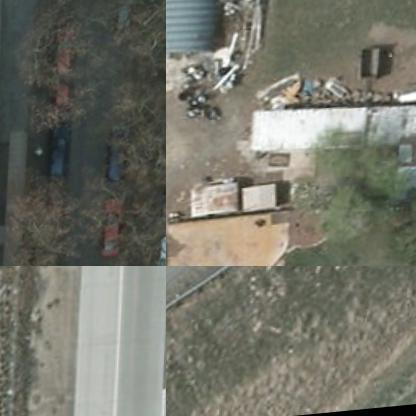car: (99, 203, 131, 265), (49, 32, 78, 85), (110, 142, 136, 192), (55, 132, 79, 186)
